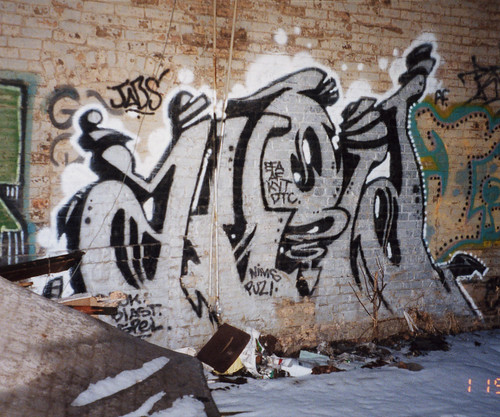graffiti: (38, 49, 484, 366)
